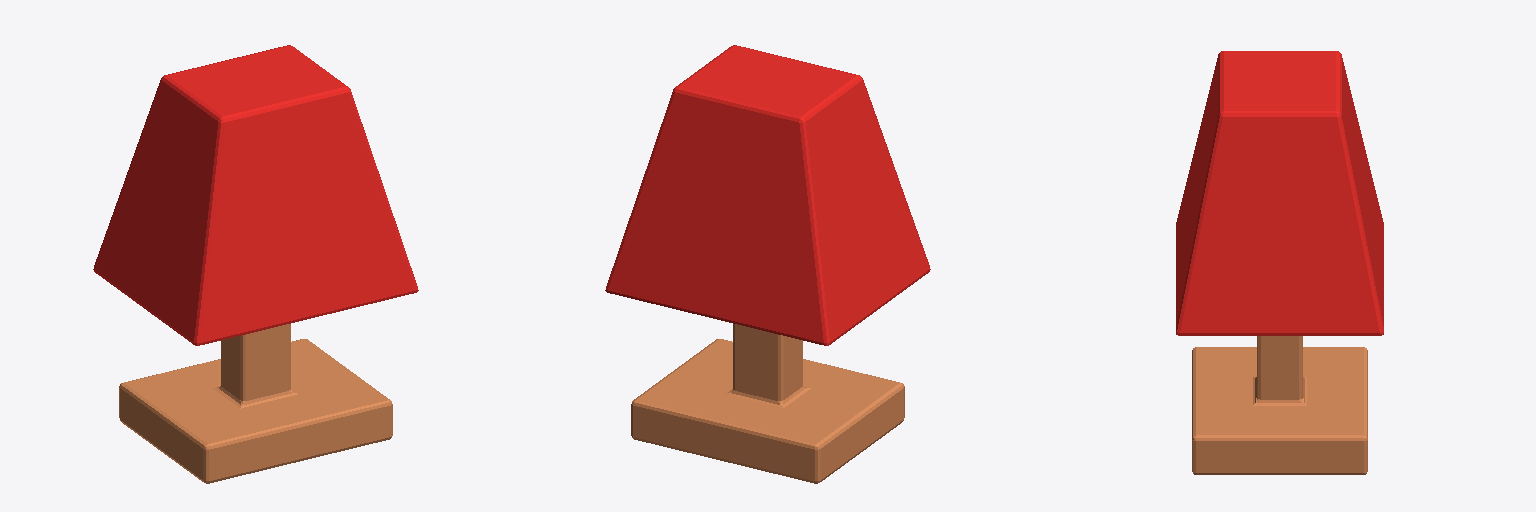
Rendered from Lamp.obj.
The picture shows the model from 3 angles: view 1: azimuth 30°, elevation 25°; view 2: azimuth 150°, elevation 25°; view 3: azimuth 270°, elevation 25°; orthographic projection.
Visible parts, largest first — view 1: Lamp_Cube.038; view 2: Lamp_Cube.038; view 3: Lamp_Cube.038.
Part boxes in pixels (x1,y1,x2,y2): Lamp_Cube.038: (93,45,418,483); Lamp_Cube.038: (605,45,930,483); Lamp_Cube.038: (1176,51,1383,474).
Bounding box in the file's own units: 0.5849 × 0.8728 × 0.4722.